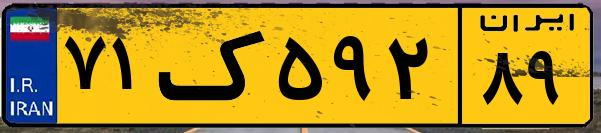1: (110, 28, 158, 98)
2: (385, 28, 445, 110)
5: (270, 28, 330, 110)
7: (57, 26, 110, 100)
8: (475, 38, 525, 113)
9: (330, 28, 385, 110), (525, 38, 570, 115)
ک: (158, 12, 270, 120)
